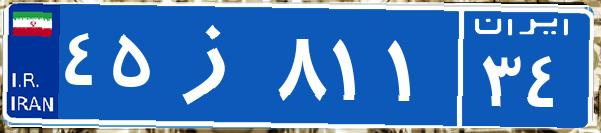1: (385, 28, 445, 110), (330, 28, 385, 110)
3: (475, 38, 525, 113)
4: (57, 26, 110, 107), (525, 38, 570, 115)
5: (110, 28, 158, 105)
8: (273, 28, 330, 110)
ز: (158, 15, 273, 115)
